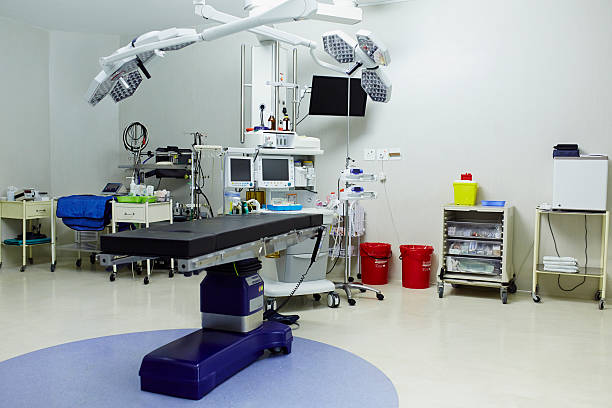bedside_monitor: (306, 72, 371, 120), (257, 155, 295, 190), (225, 155, 255, 189)
dispenser: (125, 176, 137, 196)
electrosurgical_unit: (100, 180, 126, 195)
handle: (35, 208, 48, 213)
iv_pole: (181, 127, 208, 211)
medical_drawer: (437, 204, 518, 304)
operating_bed: (99, 212, 334, 401)
surgical_light: (88, 57, 127, 107), (109, 49, 158, 80), (109, 70, 144, 105), (360, 68, 392, 103), (355, 33, 387, 65), (322, 33, 354, 64), (153, 39, 196, 51)
syringe_pump: (340, 186, 383, 201), (340, 169, 383, 181)
utility_cart: (532, 209, 612, 311), (111, 199, 174, 285), (56, 193, 114, 269), (1, 199, 56, 272)
waste_bin: (399, 244, 435, 289), (359, 241, 392, 285)
